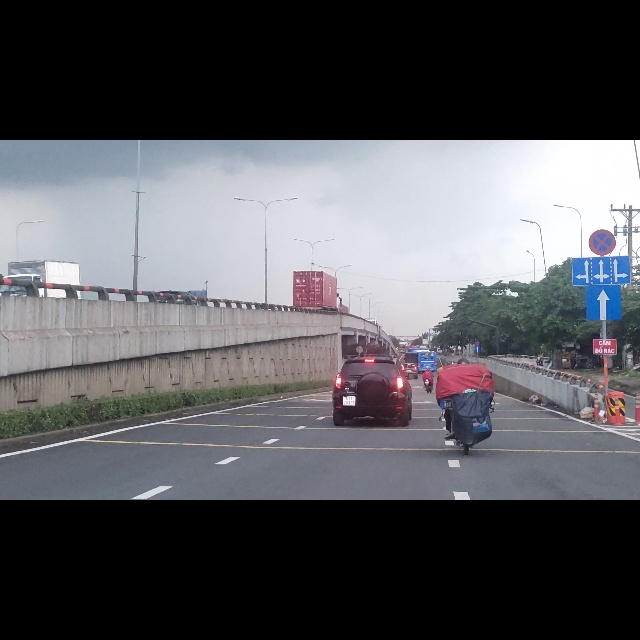bien_chi_dan: (585, 258, 624, 322), (588, 158, 617, 206), (475, 366, 481, 377)
